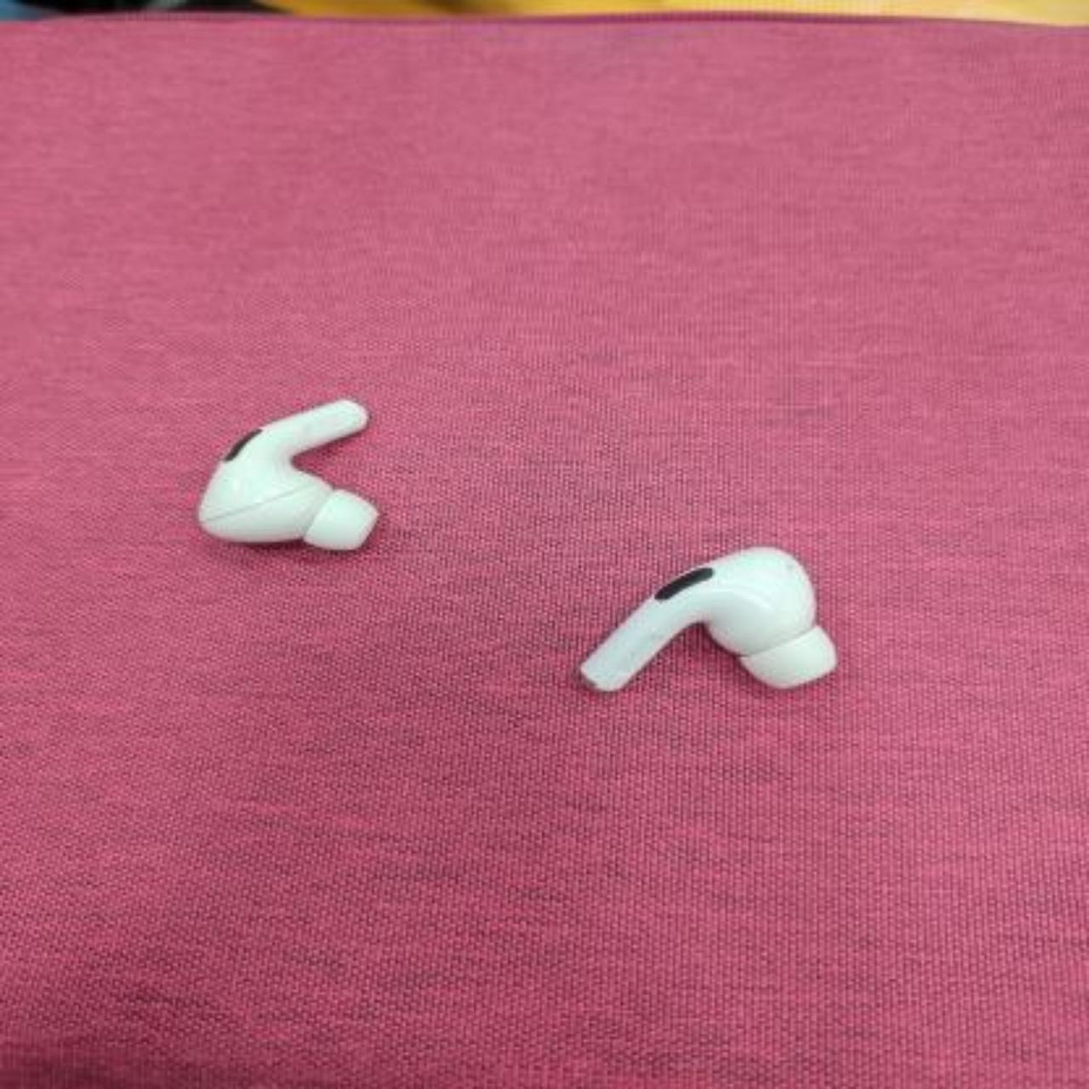Airpods_Units: (544, 507, 866, 724), (183, 370, 405, 579)
